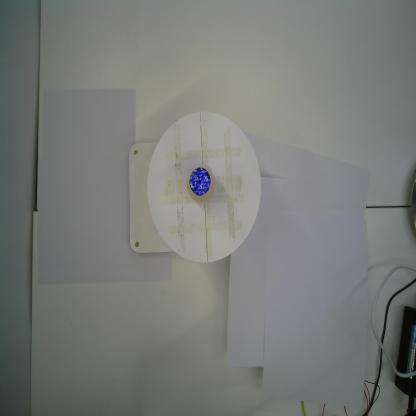Milk: (184, 162, 217, 205)
